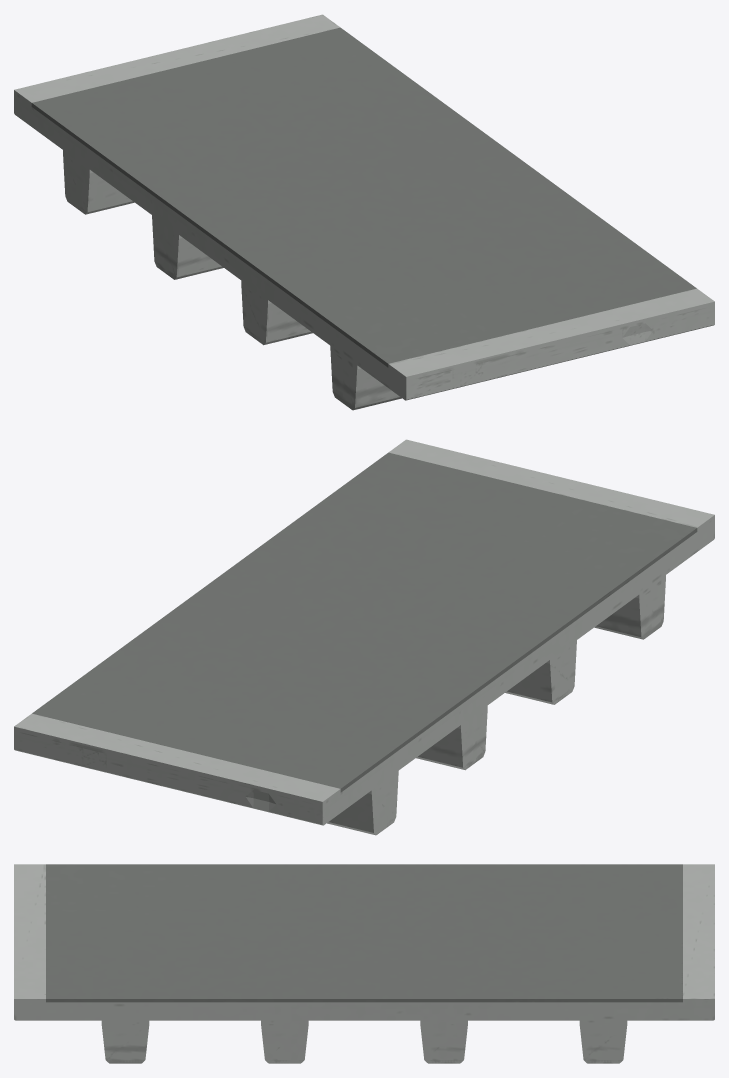
Rendered from river_bridge_deck_segment.glb.
3 views of the same model, one above another, from view 1: azimuth 30°, elevation 25°; view 2: azimuth 150°, elevation 25°; view 3: azimuth 270°, elevation 25° (orthographic). The views are drawn at different scales.
Parts seen in each view (by area): view 1: BridgeDeckSegment; view 2: BridgeDeckSegment; view 3: BridgeDeckSegment.
Part boxes in pixels (x1,y1,x2,y2): BridgeDeckSegment: (14,14,714,410); BridgeDeckSegment: (14,439,714,835); BridgeDeckSegment: (14,864,714,1063).
Size of what is drawn, in the model's own units: 4 by 0.9 by 8.8.
Materials: 1 (1 with a texture image).
